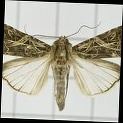Spodoptera litura: (2, 19, 120, 113)
